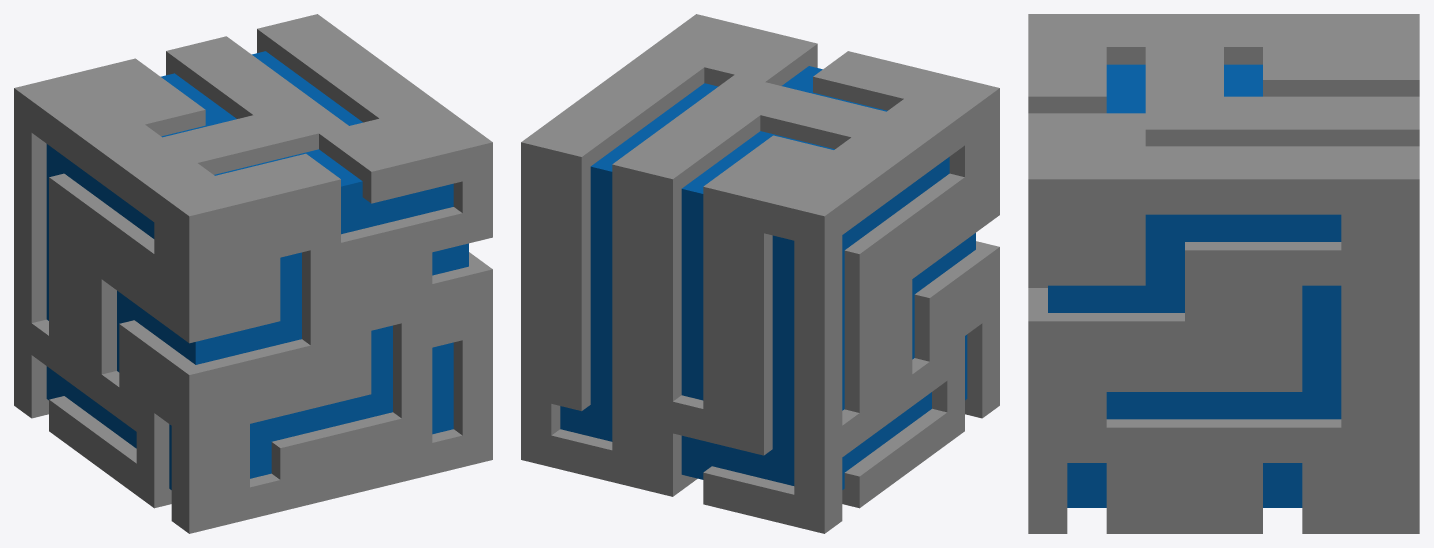
The model's file is Bloc02_fige.FBX.
3 views of the same model, side by side, from view 1: azimuth 30°, elevation 25°; view 2: azimuth 150°, elevation 25°; view 3: azimuth 270°, elevation 25° (orthographic). The views are drawn at different scales.
Visible parts, largest first — view 1: Bloc_02_fige; view 2: Bloc_02_fige; view 3: Bloc_02_fige.
Boxes of the visible parts, x1=… form: Bloc_02_fige: x1=14, y1=14, x2=492, y2=533; Bloc_02_fige: x1=521, y1=14, x2=999, y2=533; Bloc_02_fige: x1=1028, y1=14, x2=1419, y2=533.
Size of the model in its own units: 100 by 100 by 100.
